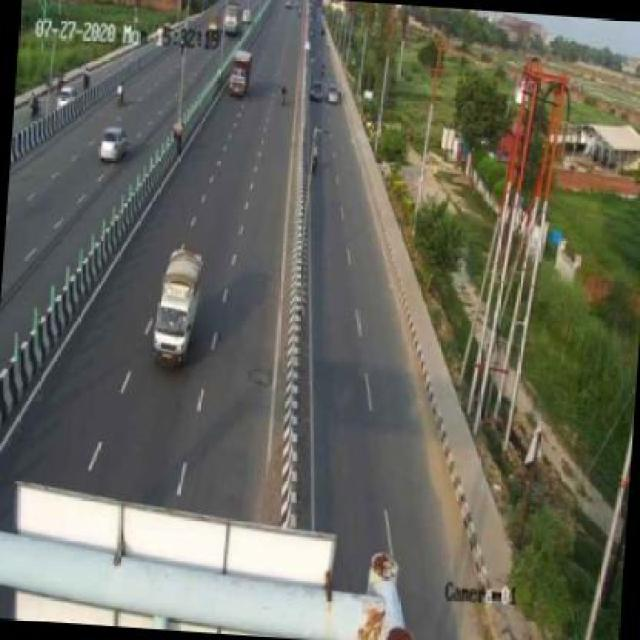car: (147, 242, 216, 376), (97, 122, 135, 164)
